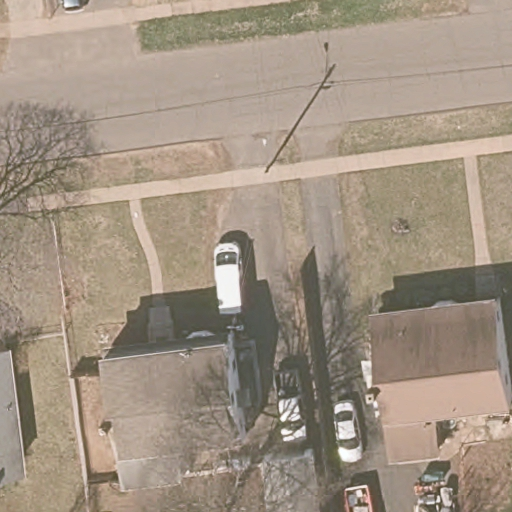DT: (264, 128, 296, 174)
